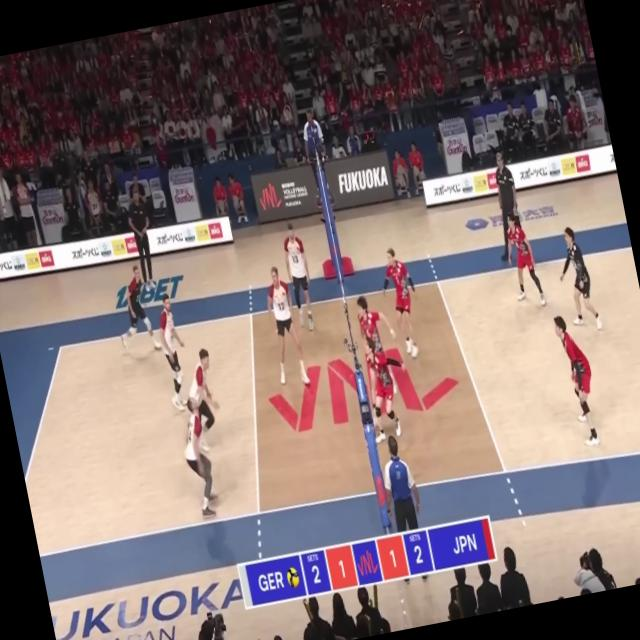referee: (372, 432, 435, 588)
team_one: (260, 264, 312, 392), (176, 394, 224, 520), (178, 346, 228, 454), (108, 263, 163, 360), (153, 293, 197, 413), (280, 223, 319, 334)
team_two: (552, 309, 606, 447), (357, 332, 419, 446), (375, 242, 428, 362), (550, 224, 604, 336), (353, 290, 407, 400), (499, 210, 548, 312)
